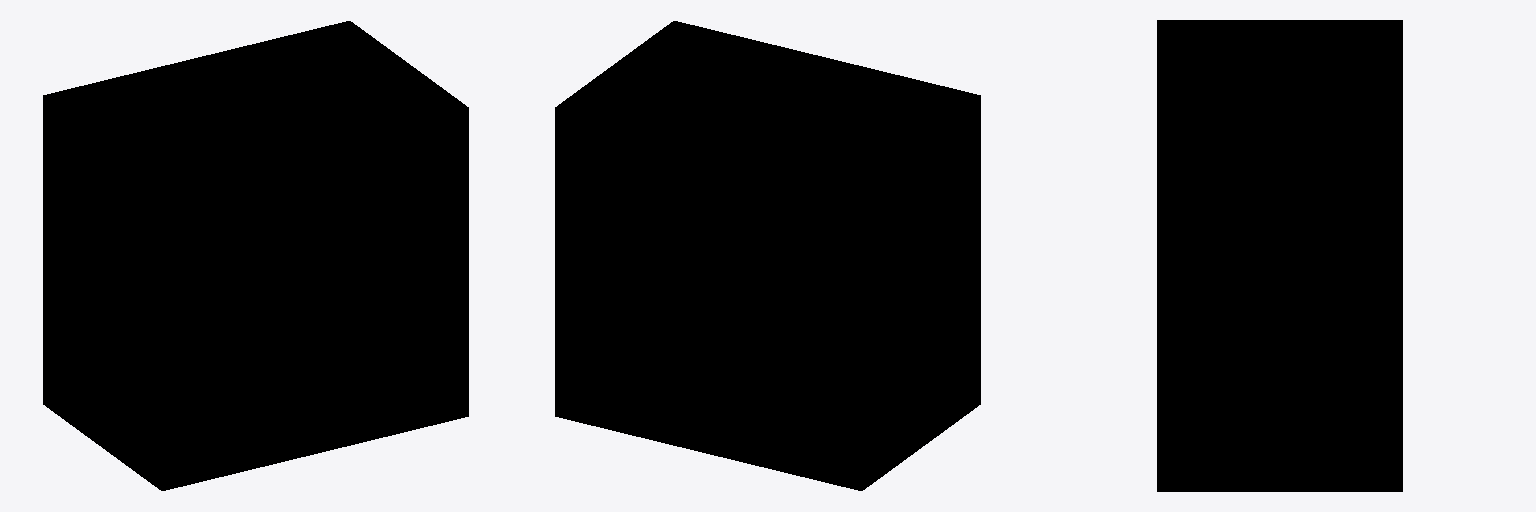
robot.urdf — myfirst:
<?xml version="1.0"?>
 <robot name="myfirst">
   <material name="red">
     <color rgba="1 0.498 0.3137 1"/>
   </material>
   <material name="black">
     <color rgba="0.0 0.0 0.0 1"/>
   </material>
   <material name="green">
     <color rgba="0 1 0.498 1"/>
   </material>
   <link name="right_leg">
     <visual>
       <geometry>
         <box size="0.0423294 0.0441151 0.0296827"/>
       </geometry>
       <origin xyz="-0.02484135 -0.02484135 0.0411647" rpy="0 1.5707963 1.5707963"/>
       <material name="black"/>
     </visual>
     <collision>
       <geometry>
         <box size="0.0823294 0.0941151 0.0496827"/>
       </geometry>
       <origin xyz="-0.02484135 -0.02484135 0.0411647" rpy="0 1.5707963 1.5707963"/>
     </collision>
     <inertial>
       <mass value="1"/>
       <inertia ixx="1.0" ixy="0.0" ixz="0.0" iyy="1.0" iyz="0.0" izz="1.0"/>
     </inertial>
   </link>
 </robot>

--- What the picture shows (computed from the rendered views, not written in the file) ---
The picture shows the robot from 3 angles, left to right: view 1: azimuth 30°, elevation 25°; view 2: azimuth 150°, elevation 25°; view 3: azimuth 270°, elevation 25°; orthographic projection.
Robot: myfirst — 1 links, 0 joints (none); root link right_leg; default pose: all joints at 0.
Links seen in each view (by area): view 1: right_leg; view 2: right_leg; view 3: right_leg.
Link boxes in pixels (x1,y1,x2,y2): right_leg: [43, 21, 468, 490]; right_leg: [555, 21, 980, 490]; right_leg: [1157, 20, 1402, 491].
Bounding box of the posed robot: 0.0441 × 0.0297 × 0.0423 m (x, y, z).
Geometry: primitives only (box / cylinder / sphere), no mesh files.
